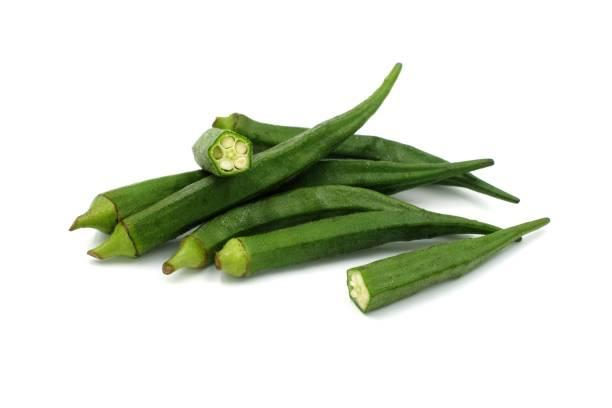okra: (80, 61, 404, 261), (210, 111, 519, 203), (212, 206, 504, 278), (345, 216, 550, 314)
